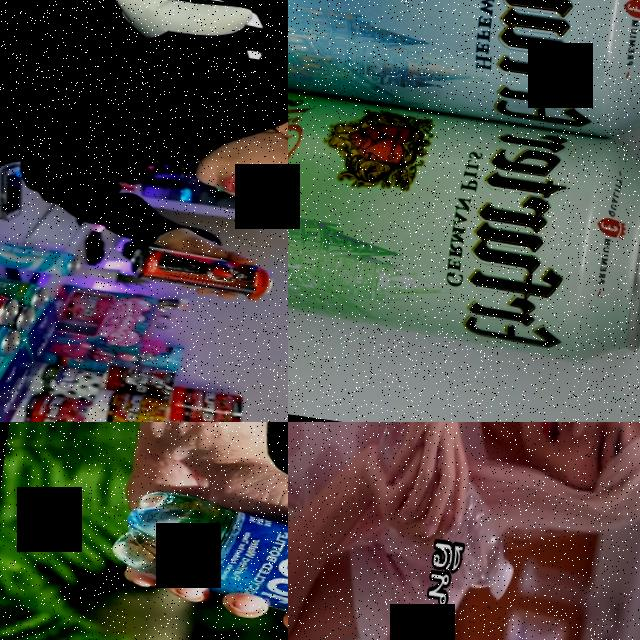bottle: (356, 422, 538, 604), (104, 477, 288, 640)
can: (288, 62, 640, 372), (288, 0, 640, 145), (131, 240, 281, 302), (0, 234, 82, 280), (0, 268, 48, 312)
